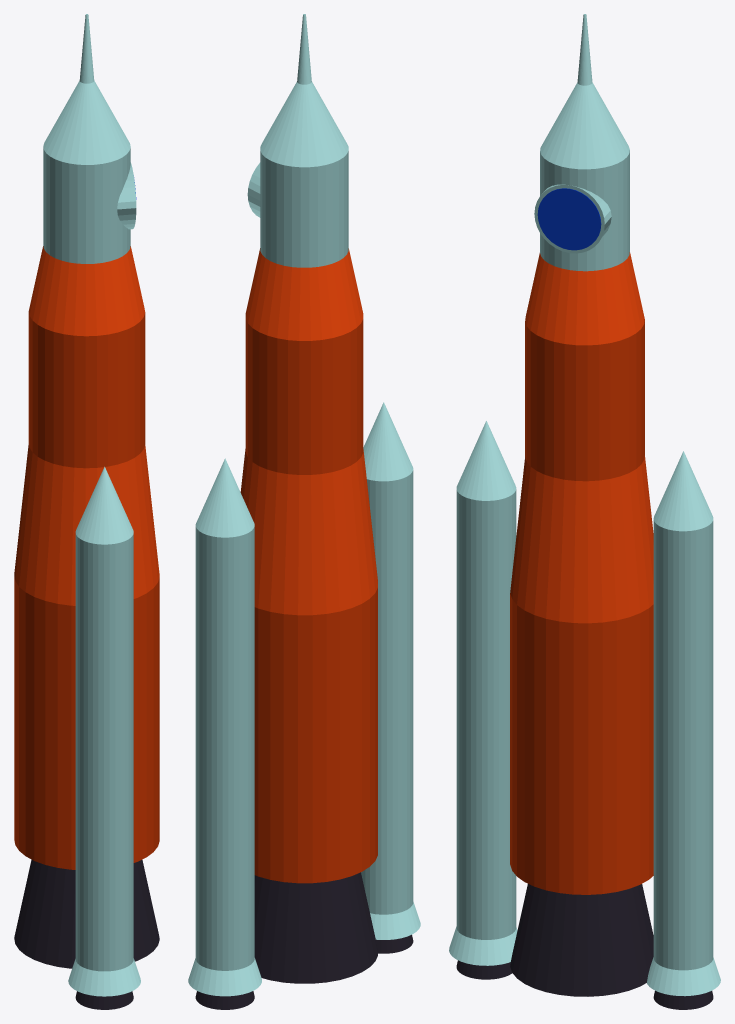
The model's file is rocket.obj.
3 renders of one model, left to right at view 1: azimuth 30°, elevation 25°; view 2: azimuth 150°, elevation 25°; view 3: azimuth 270°, elevation 25°, orthographic. The views are drawn at different scales.
Parts seen in each view (by area): view 1: Cylinder; view 2: Cylinder; view 3: Cylinder.
Part boxes in pixels (x1,y1,x2,y2): Cylinder: (14, 14, 159, 1009); Cylinder: (188, 14, 420, 1009); Cylinder: (449, 14, 720, 1009).
Size of the model in its own units: 2 by 14.25 by 3.63.
